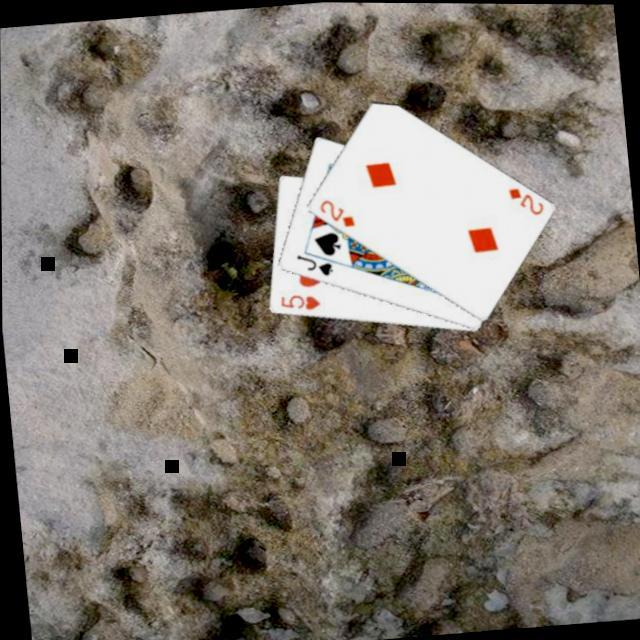2D: (502, 182, 544, 220), (314, 195, 356, 232)
5H: (274, 290, 322, 316)
JS: (292, 249, 334, 281)
